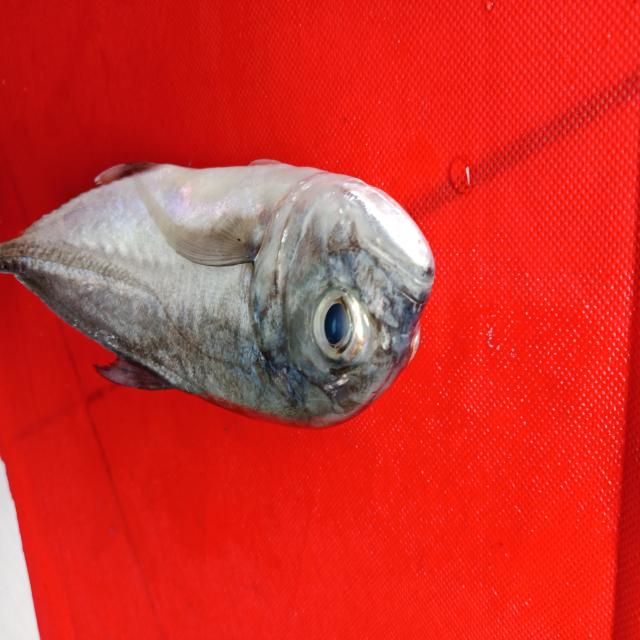ikan: (7, 135, 446, 439)
